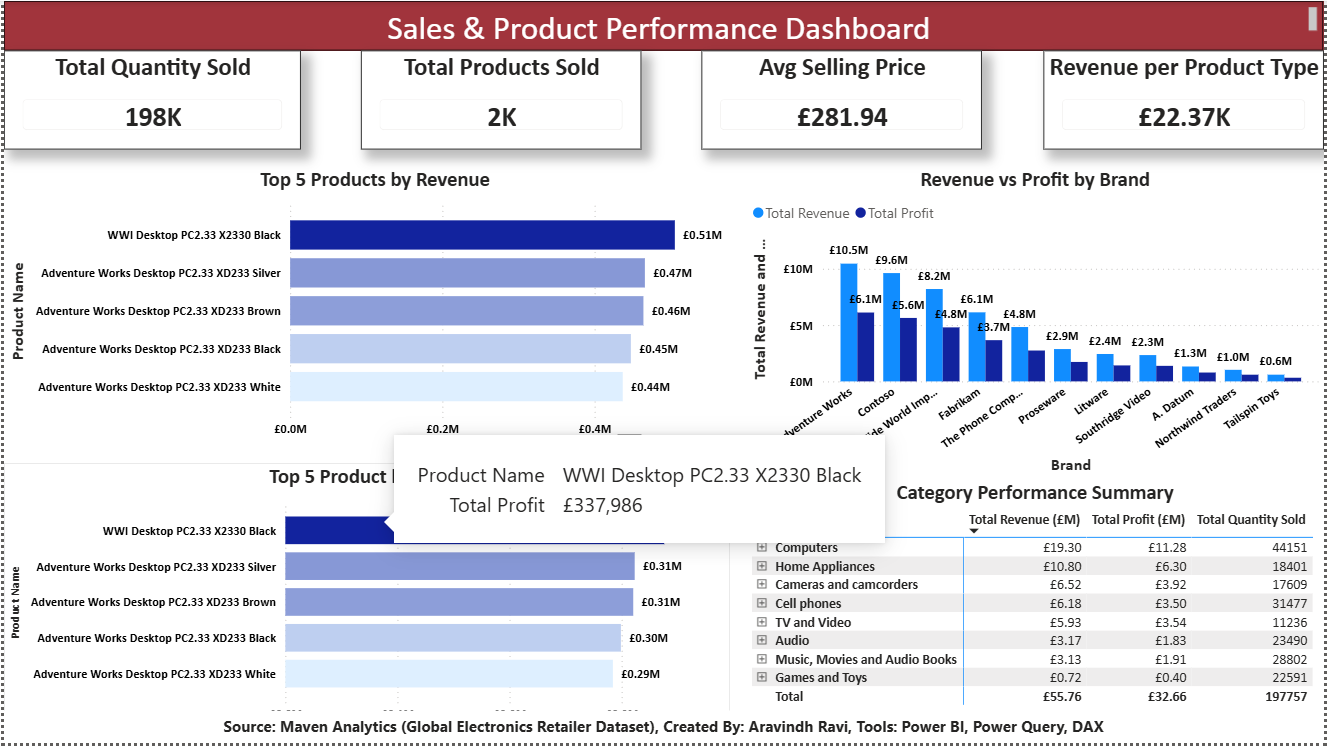

What the dashboard file says about the page in this screenshot:
{"tool":"powerbi","page":{"name":"Sales & Product Performance","canvas":[1280,720],"ordinal":1},"visuals":[{"type":"textbox","box":[0,0,1280,48],"z":0},{"type":"cardVisual","title":"Total Quantity Sold","fields":{"Data":["Measure.Total Quantity Sold"]},"box":[0,48,288,96],"z":1000,"group":"g1"},{"type":"clusteredBarChart","title":"Top 5 Products by Revenue","fields":{"Category":["DimProduct.Product Name"],"Y":["Measure.Total Revenue"]},"box":[0,160,720,288],"z":1000},{"type":"cardVisual","title":"Total Products Sold","fields":{"Data":["Measure.Total Products Sold"]},"box":[346.7,48,272,96],"z":2000,"group":"g1"},{"type":"clusteredColumnChart","title":"Revenue vs Profit by Brand","fields":{"Category":["DimProduct.Brand"],"Y":["Measure.Total Revenue","Measure.Total Profit"]},"box":[720,160,560,304],"z":2000},{"type":"cardVisual","title":"Avg Selling Price","fields":{"Data":["Measure.Average Selling Price"]},"box":[677.3,48,272,96],"z":3000,"group":"g1"},{"type":"clusteredBarChart","title":"Top 5 Product by Profit","fields":{"Y":["Measure.Total Profit"],"Category":["DimProduct.Product Name"]},"box":[0,448,704,272],"z":3000},{"type":"cardVisual","title":"Revenue per Product Type","fields":{"Data":["Measure.Revenue per Product"]},"box":[1008,48,272,96],"z":4000,"group":"g1"},{"type":"pivotTable","title":"Category Performance Summary","fields":{"Rows":["DimProduct.Category","DimProduct.Brand"],"Values":["Measure.Total Revenue (£M)","Measure.Total Profit (£M)","Measure.Total Quantity Sold"]},"box":[720,464,560,224],"z":4000},{"type":"textbox","box":[0,688,1280,32],"z":6000},{"type":"group","id":"g1","title":"Group 1","box":[0,48,1280,96],"z":7000}]}

Visuals, with their boxes in screenshot pixels (x1, y1, x2, y2), scaled from the page's 1280x720 canvas onto the 1327x747 screenshot:
textbox: bbox=[0, 0, 1326, 50]
"Total Quantity Sold" cardVisual: bbox=[0, 50, 299, 149]
"Top 5 Products by Revenue" clusteredBarChart: bbox=[0, 166, 746, 465]
"Total Products Sold" cardVisual: bbox=[359, 50, 641, 149]
"Revenue vs Profit by Brand" clusteredColumnChart: bbox=[746, 166, 1326, 481]
"Avg Selling Price" cardVisual: bbox=[702, 50, 984, 149]
"Top 5 Product by Profit" clusteredBarChart: bbox=[0, 465, 730, 746]
"Revenue per Product Type" cardVisual: bbox=[1045, 50, 1326, 149]
"Category Performance Summary" pivotTable: bbox=[746, 481, 1326, 714]
textbox: bbox=[0, 714, 1326, 746]
"Group 1" group: bbox=[0, 50, 1326, 149]
